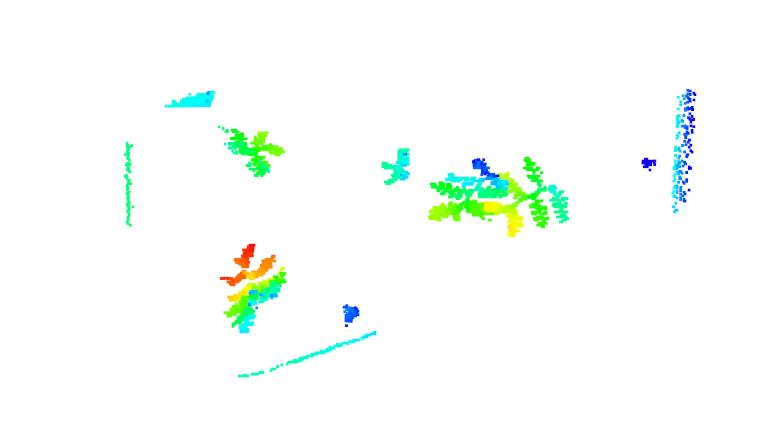chickpea: (487, 153, 574, 236), (213, 240, 289, 335), (425, 153, 502, 225), (217, 124, 287, 178), (378, 144, 415, 187)
